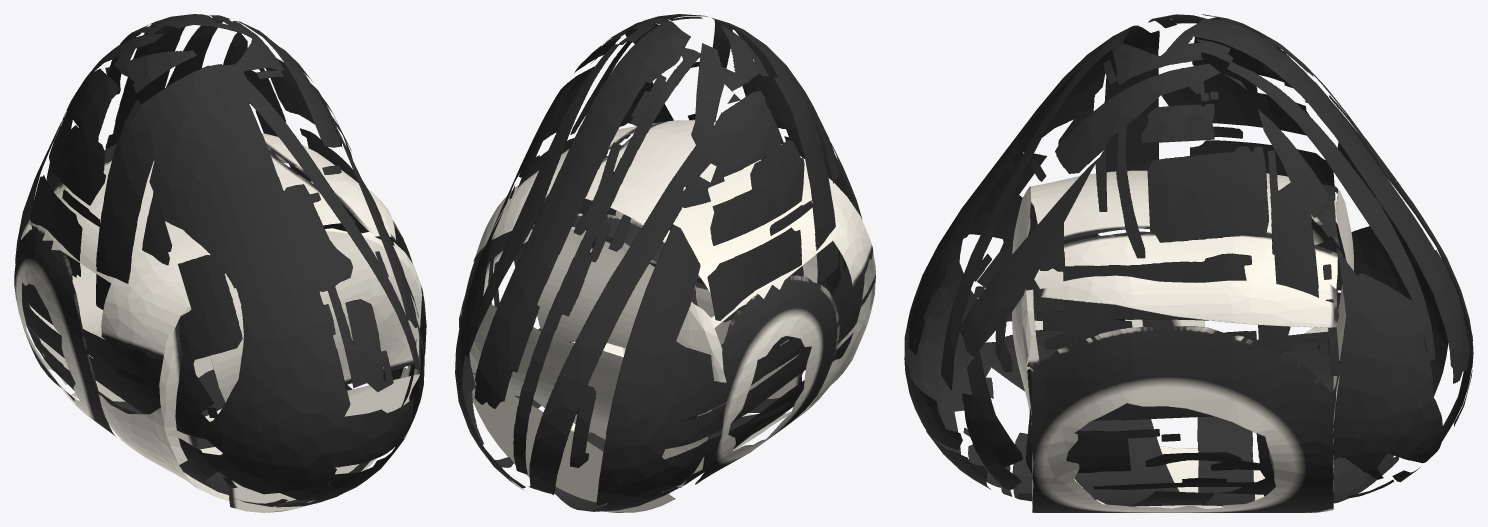
File: Onigiri.obj
3 views of the same model, side by side, from view 1: azimuth 30°, elevation 25°; view 2: azimuth 150°, elevation 25°; view 3: azimuth 270°, elevation 25° (orthographic). The views are drawn at different scales.
Parts seen in each view (by area): view 1: model_0, model_1; view 2: model_0, model_1; view 3: model_0, model_1.
Part boxes in pixels (bbox=[...]): model_0: bbox=[15, 14, 424, 507]; model_1: bbox=[14, 133, 426, 512]; model_0: bbox=[455, 14, 864, 511]; model_1: bbox=[459, 119, 875, 512]; model_0: bbox=[904, 14, 1473, 506]; model_1: bbox=[1012, 170, 1353, 512].
Bounding box in the file's own units: 122 × 165 × 184.
